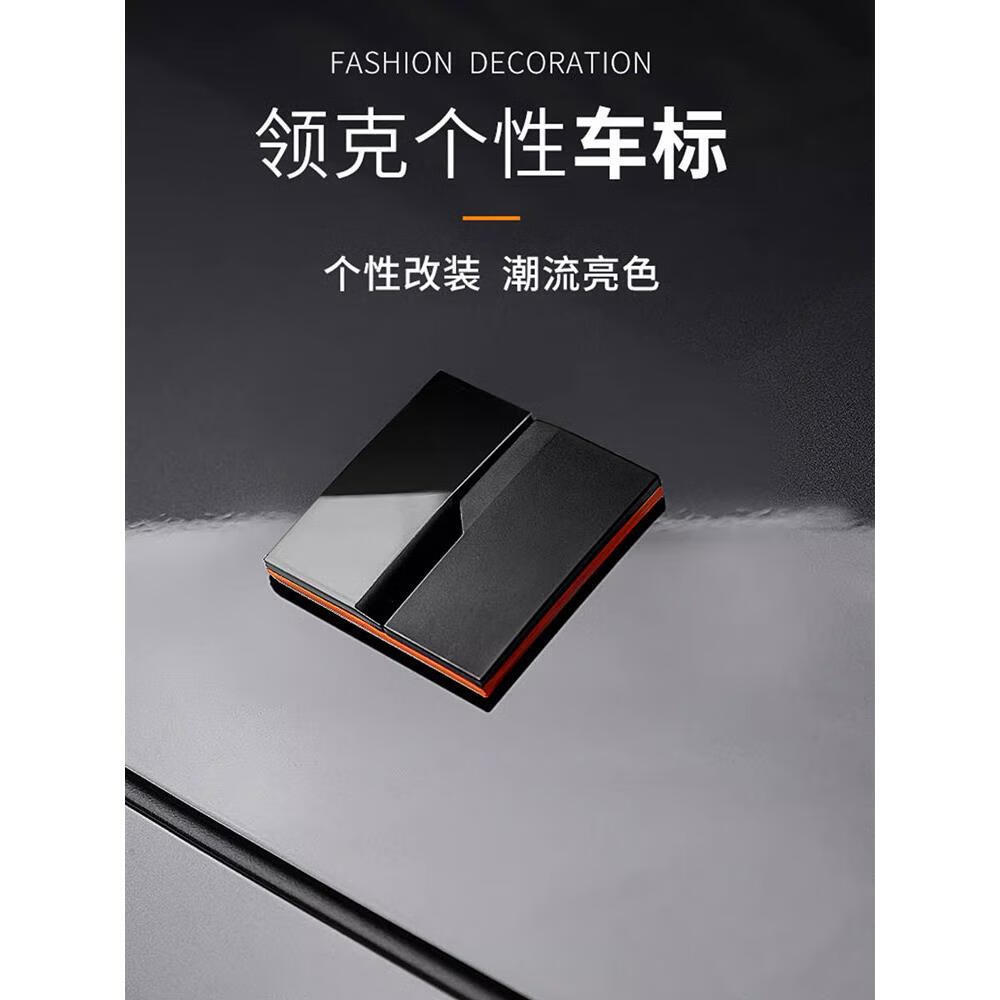LINK&CO: (265, 371, 662, 696)
